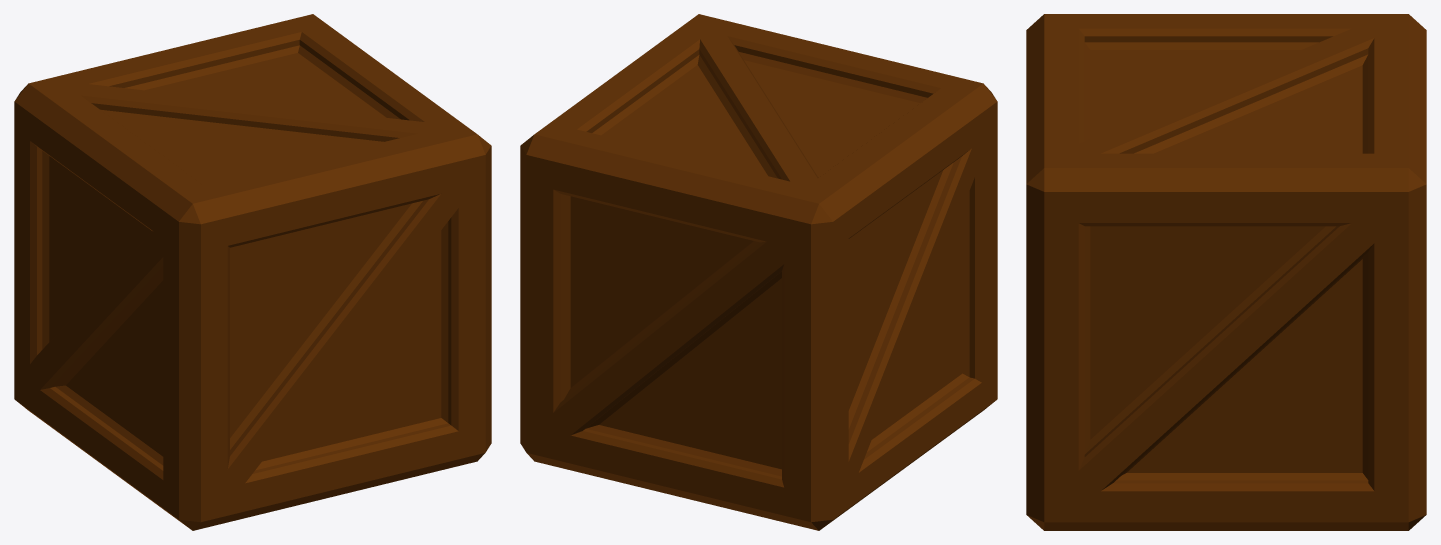
Rendered from BoxToBreak.fbx.
The picture shows the model from 3 angles, left to right: view 1: azimuth 30°, elevation 25°; view 2: azimuth 150°, elevation 25°; view 3: azimuth 270°, elevation 25°; orthographic projection. The views are drawn at different scales.
Parts seen in each view (by area): view 1: Cube; view 2: Cube; view 3: Cube.
Boxes of the visible parts, x1,y1,x2,y2 form: Cube: [14, 14, 491, 530]; Cube: [520, 14, 997, 530]; Cube: [1026, 14, 1426, 530].
Size of the model in its own units: 200 by 200 by 200.
